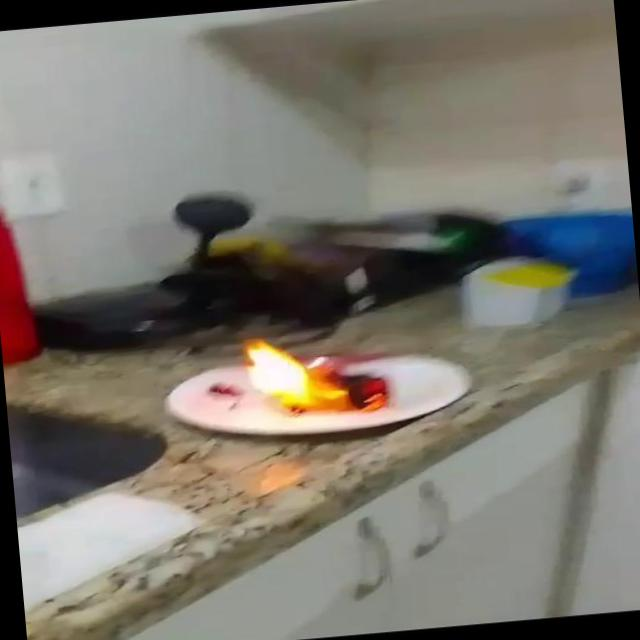Fire: (238, 324, 394, 428)
